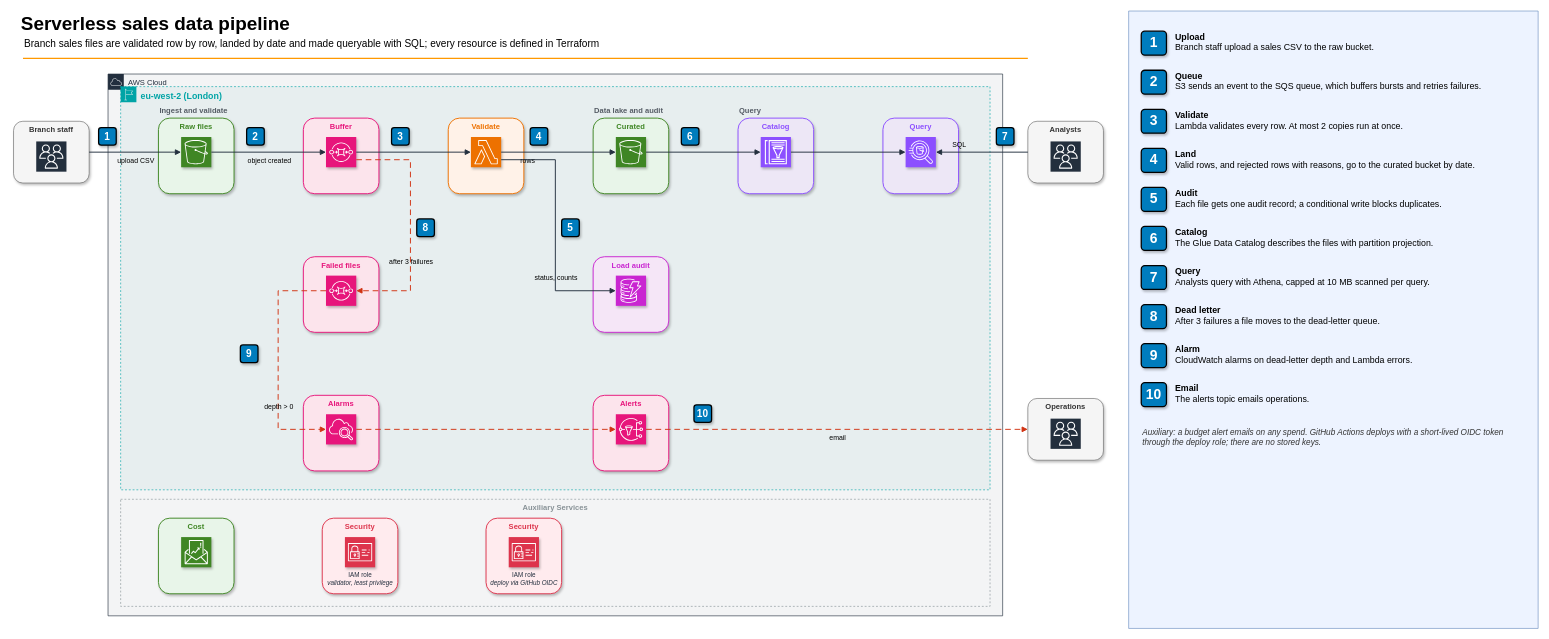
Image size: 1549x639. Some labels were removed from this diagram. The shapes that lost their labels are listed below. From the top down, each one's centre as x and y in pixels, then its label:
point (196, 153): Amazon S3 incoming/*.csv
point (341, 153): Amazon SQS files queue
point (486, 153): AWS Lambda Python 3.13, max 2 at once
point (631, 153): Amazon S3 sales/, rejected/ by date
point (776, 153): Glue Data Catalog partition projection
point (921, 153): Amazon Athena 10 MB scan cap
point (341, 291): Amazon SQS dead-letter queue
point (631, 291): Amazon DynamoDB one record per file
point (341, 430): CloudWatch DLQ depth, Lambda errors
point (631, 430): Amazon SNS email
point (196, 553): AWS Budgets emails on any spend
